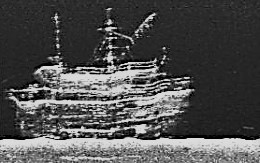ship: (7, 7, 201, 137)
